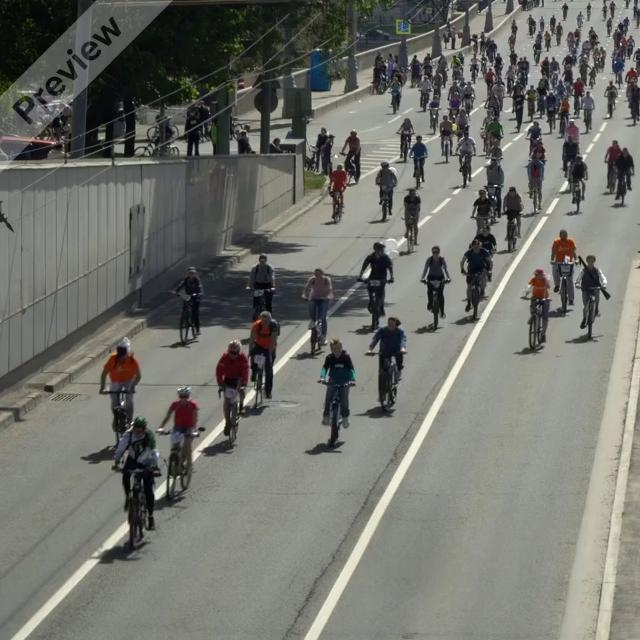bicycle: (111, 463, 161, 550), (155, 426, 205, 500), (316, 379, 355, 448), (365, 350, 406, 412), (98, 387, 136, 453), (163, 289, 202, 345), (357, 278, 393, 330), (519, 295, 551, 351), (302, 297, 331, 356), (218, 385, 245, 446), (420, 278, 450, 332), (575, 285, 603, 339), (461, 269, 489, 321), (550, 260, 577, 312), (249, 351, 273, 409), (246, 286, 274, 321), (483, 184, 503, 224), (614, 168, 633, 206), (401, 211, 419, 251), (505, 212, 522, 252), (328, 185, 346, 222), (339, 151, 359, 184), (569, 177, 586, 213), (395, 129, 414, 161), (410, 154, 427, 189), (457, 153, 474, 188), (378, 185, 394, 221), (527, 177, 542, 214)
